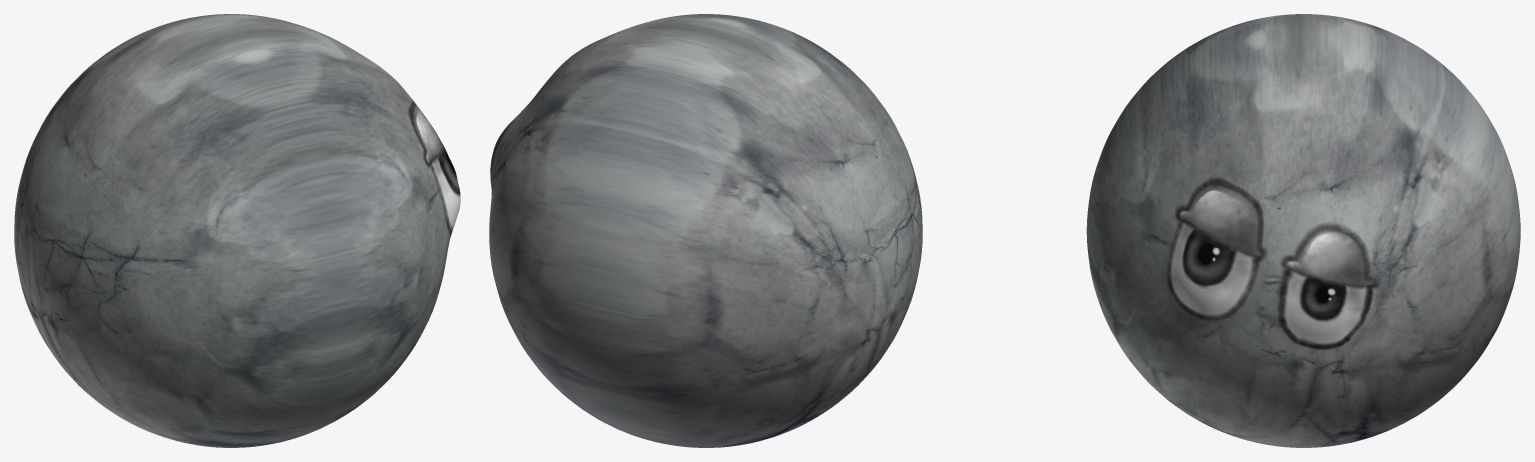
Rendered from monde2.glb.
The picture shows the model from 3 angles, left to right: view 1: azimuth 30°, elevation 25°; view 2: azimuth 150°, elevation 25°; view 3: azimuth 270°, elevation 25°; orthographic projection.
Visible parts, largest first — view 1: Sphere.002; view 2: Sphere.002; view 3: Sphere.002.
Boxes of the visible parts, bbox=[...] form: Sphere.002: bbox=[14, 14, 460, 447]; Sphere.002: bbox=[489, 14, 922, 447]; Sphere.002: bbox=[1086, 14, 1520, 447].
Size of the model in its own units: 8.59 by 8.4 by 11.02.
4 materials, 1 textured.
